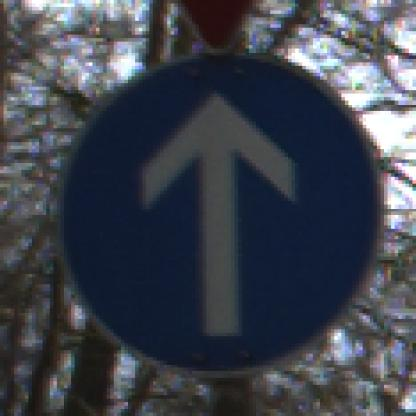AheadOnly: (37, 39, 382, 382)
